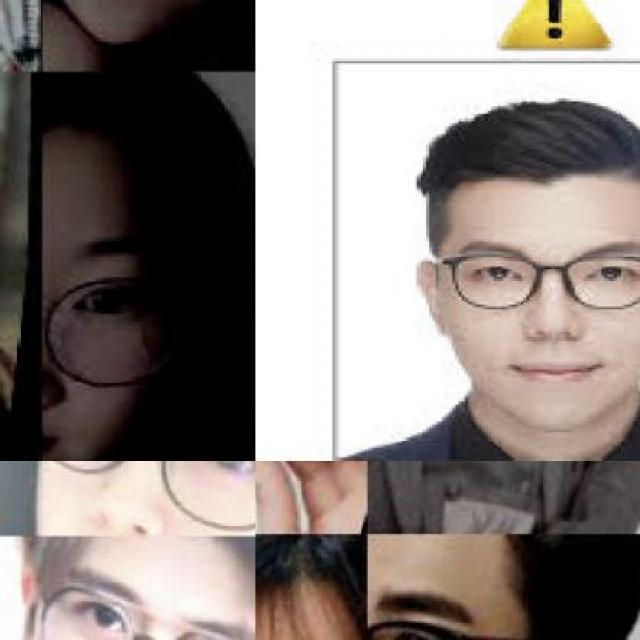glasses: (41, 249, 208, 408), (0, 460, 254, 535), (8, 564, 254, 638), (426, 240, 639, 325), (368, 551, 563, 638)
